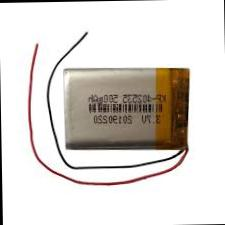battery: (14, 33, 208, 194)
